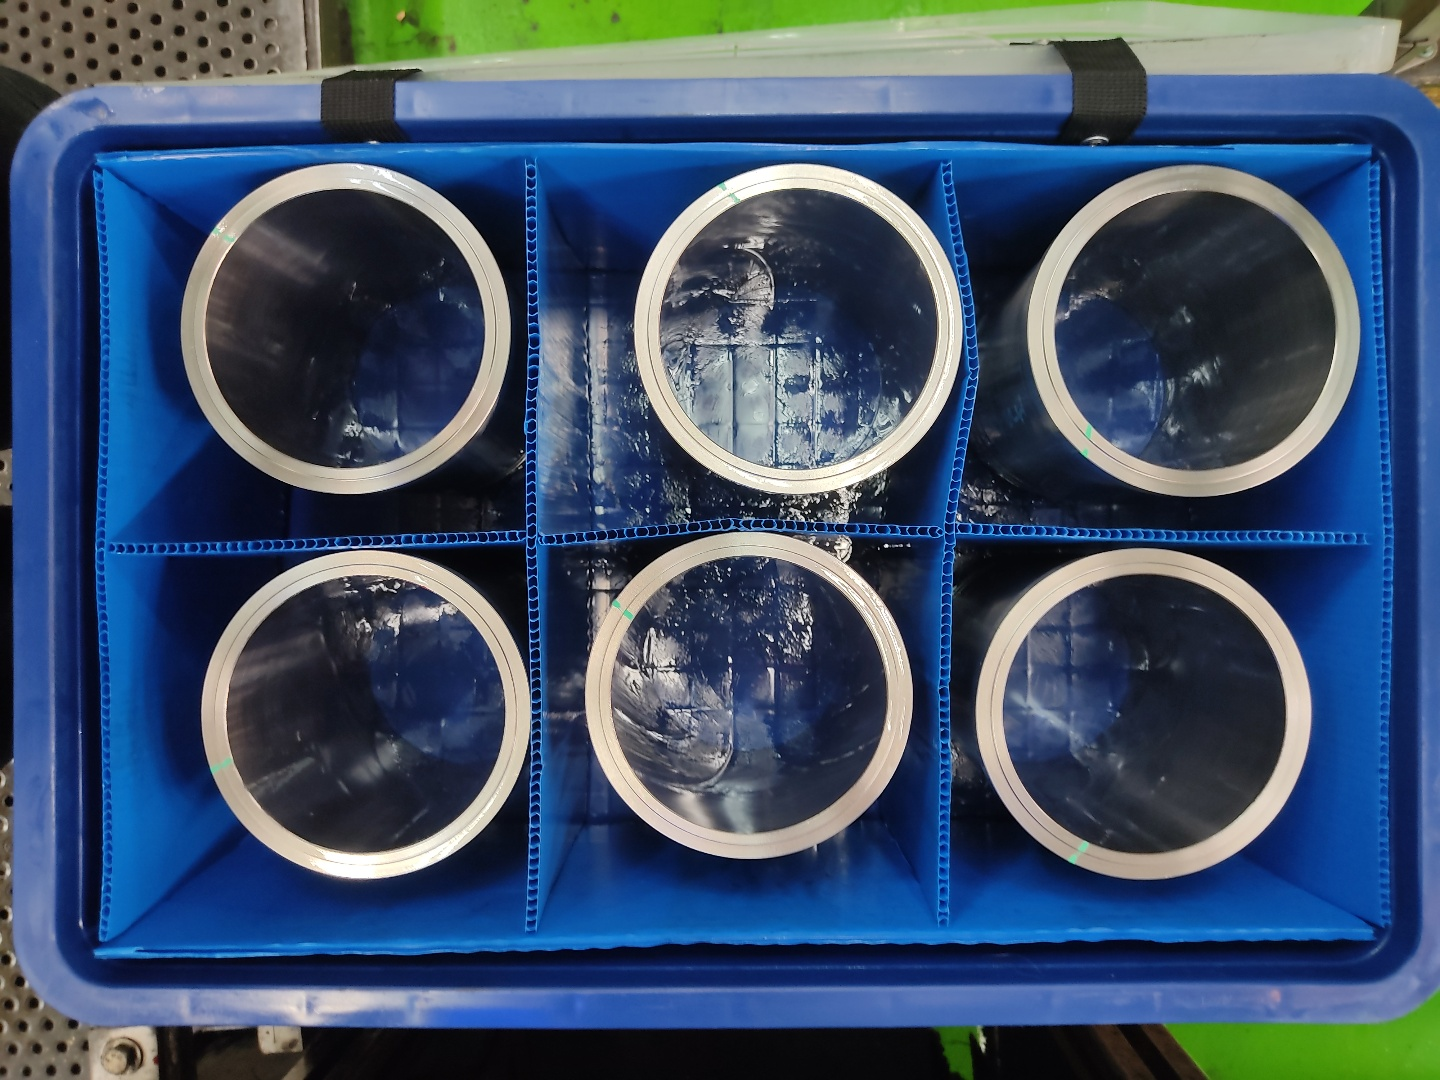cylinder: (972, 541, 1318, 887), (1023, 159, 1365, 504), (581, 523, 920, 863), (176, 158, 513, 499), (632, 161, 969, 500), (195, 545, 534, 881)
